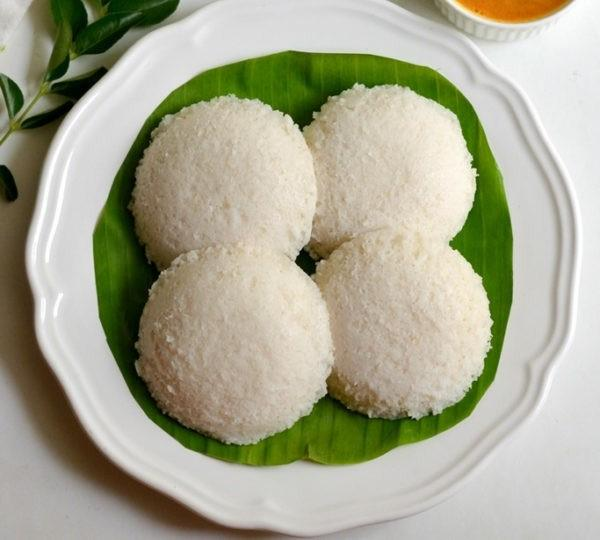Idli: (135, 245, 335, 445), (313, 233, 495, 417), (129, 94, 317, 265), (302, 82, 478, 241)
